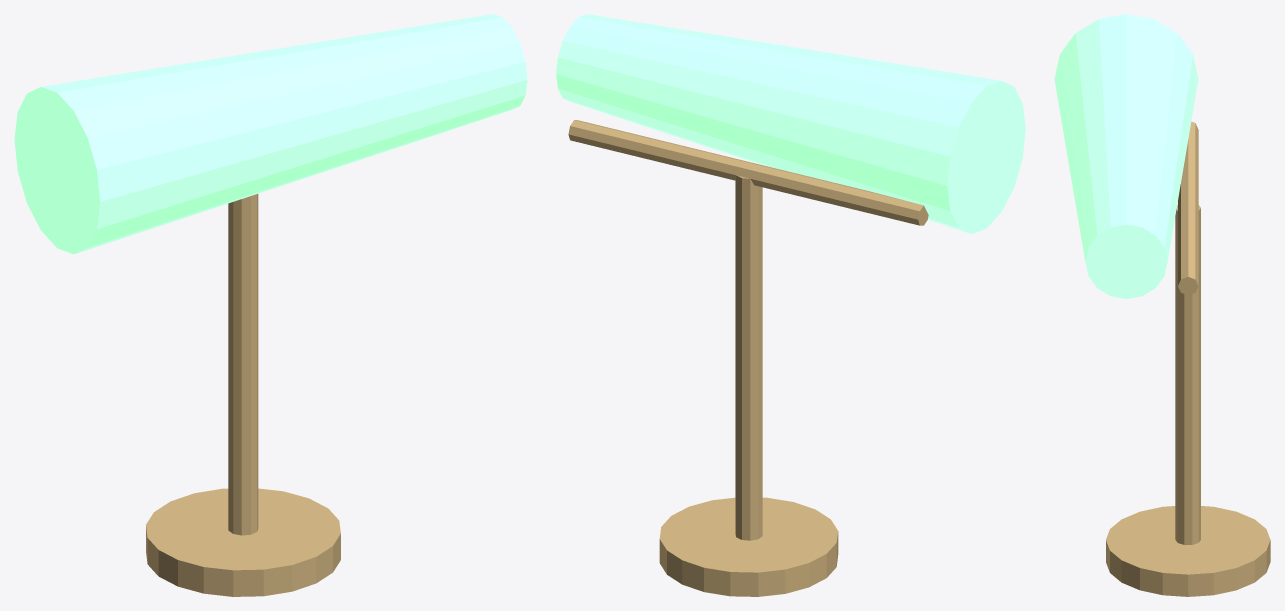
File: banker-lamba.glb
3 renders of one model, left to right at view 1: azimuth 30°, elevation 25°; view 2: azimuth 150°, elevation 25°; view 3: azimuth 270°, elevation 25°, orthographic. The views are drawn at different scales.
Visible parts, largest first — view 1: banker_lamba_sapka, banker_lamba_taban, banker_lamba_govde; view 2: banker_lamba_sapka, banker_lamba_taban, banker_lamba_govde, banker_lamba_kol; view 3: banker_lamba_sapka, banker_lamba_taban, banker_lamba_govde, banker_lamba_kol.
Part boxes in pixels (bbox=[...]): banker_lamba_sapka: bbox=[14, 14, 527, 254]; banker_lamba_taban: bbox=[146, 488, 340, 596]; banker_lamba_govde: bbox=[228, 194, 258, 535]; banker_lamba_sapka: bbox=[556, 14, 1025, 233]; banker_lamba_taban: bbox=[659, 497, 838, 596]; banker_lamba_govde: bbox=[735, 175, 762, 540]; banker_lamba_kol: bbox=[568, 120, 928, 225]; banker_lamba_sapka: bbox=[1054, 14, 1198, 298]; banker_lamba_taban: bbox=[1106, 506, 1270, 596]; banker_lamba_govde: bbox=[1175, 205, 1200, 544]; banker_lamba_kol: bbox=[1178, 121, 1198, 295].
Bounding box in the file's own units: 0.42 × 0.49 × 0.21.
